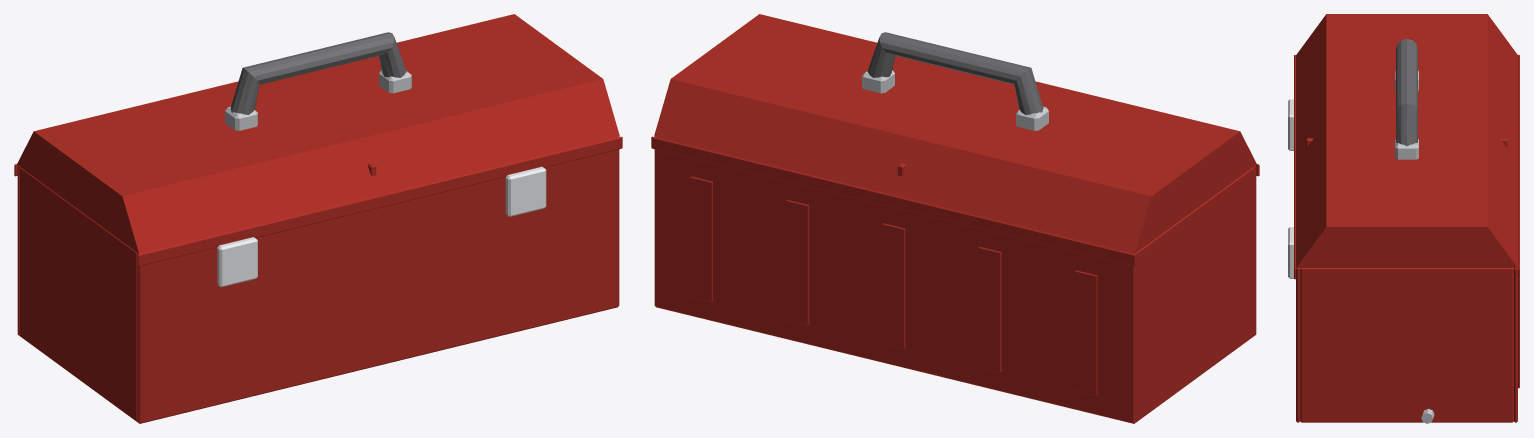
File: caixa_ferramentas.glb
3 renders of one model, left to right at view 1: azimuth 30°, elevation 25°; view 2: azimuth 150°, elevation 25°; view 3: azimuth 270°, elevation 25°, orthographic. The views are drawn at different scales.
Parts seen in each view (by area): view 1: caixa_ferramentas_tinta_vermelha, caixa_ferramentas_tampa_tinta_vermelha, caixa_ferramentas_tampa_plastico_preto, caixa_ferramentas_aco_polido, caixa_ferramentas_tampa_aco; view 2: caixa_ferramentas_tinta_vermelha, caixa_ferramentas_tampa_tinta_vermelha, caixa_ferramentas_tampa_plastico_preto, caixa_ferramentas_tampa_aco; view 3: caixa_ferramentas_tampa_tinta_vermelha, caixa_ferramentas_tinta_vermelha, caixa_ferramentas_tampa_plastico_preto, caixa_ferramentas_aco_polido, caixa_ferramentas_tampa_aco.
Boxes of the visible parts, x1=… form: caixa_ferramentas_tinta_vermelha: x1=14, y1=136, x2=622, y2=423; caixa_ferramentas_tampa_tinta_vermelha: x1=17, y1=14, x2=619, y2=253; caixa_ferramentas_tampa_plastico_preto: x1=230, y1=32, x2=406, y2=114; caixa_ferramentas_aco_polido: x1=217, y1=166, x2=546, y2=287; caixa_ferramentas_tampa_aco: x1=225, y1=70, x2=411, y2=130; caixa_ferramentas_tinta_vermelha: x1=651, y1=136, x2=1259, y2=423; caixa_ferramentas_tampa_tinta_vermelha: x1=654, y1=14, x2=1256, y2=253; caixa_ferramentas_tampa_plastico_preto: x1=867, y1=32, x2=1043, y2=114; caixa_ferramentas_tampa_aco: x1=862, y1=70, x2=1048, y2=130; caixa_ferramentas_tampa_tinta_vermelha: x1=1296, y1=14, x2=1517, y2=267; caixa_ferramentas_tinta_vermelha: x1=1294, y1=55, x2=1519, y2=422; caixa_ferramentas_tampa_plastico_preto: x1=1396, y1=39, x2=1417, y2=146; caixa_ferramentas_aco_polido: x1=1288, y1=99, x2=1293, y2=278; caixa_ferramentas_tampa_aco: x1=1395, y1=71, x2=1418, y2=159.
Bounding box in the file's own units: 0.5127 × 0.2688 × 0.23.
